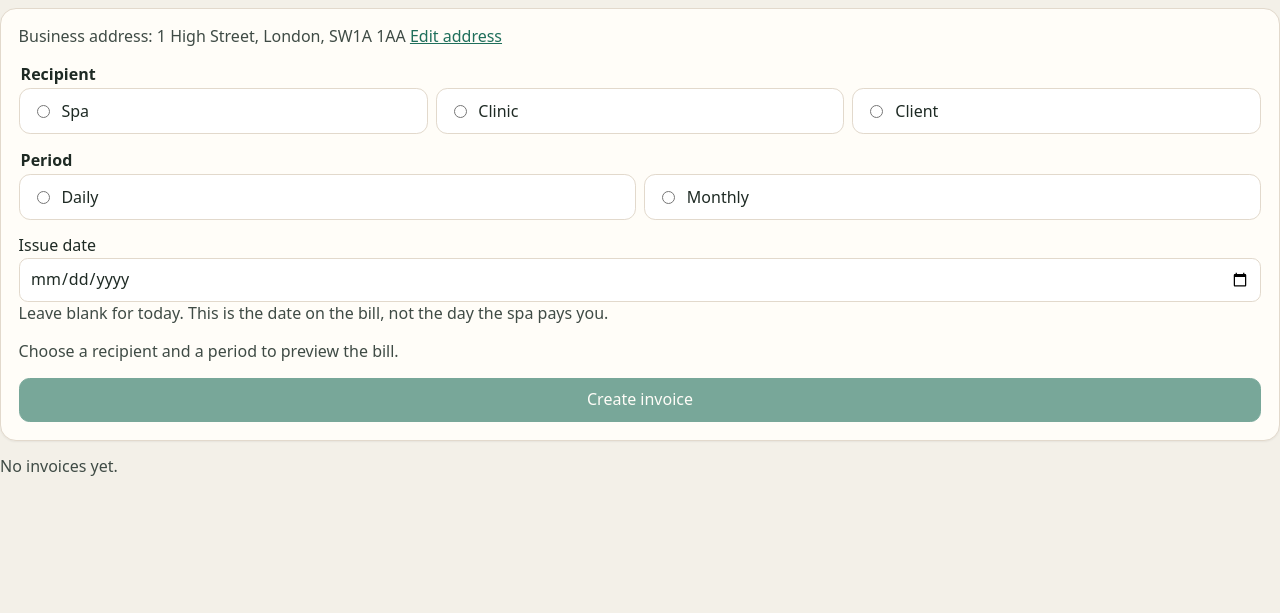
Test case: records › keeps Enter in a workplace address field from issuing the invoice
Click the radio button labelled "Spa" at coordinates (43, 111), box left=37, top=105, right=50, bottom=118
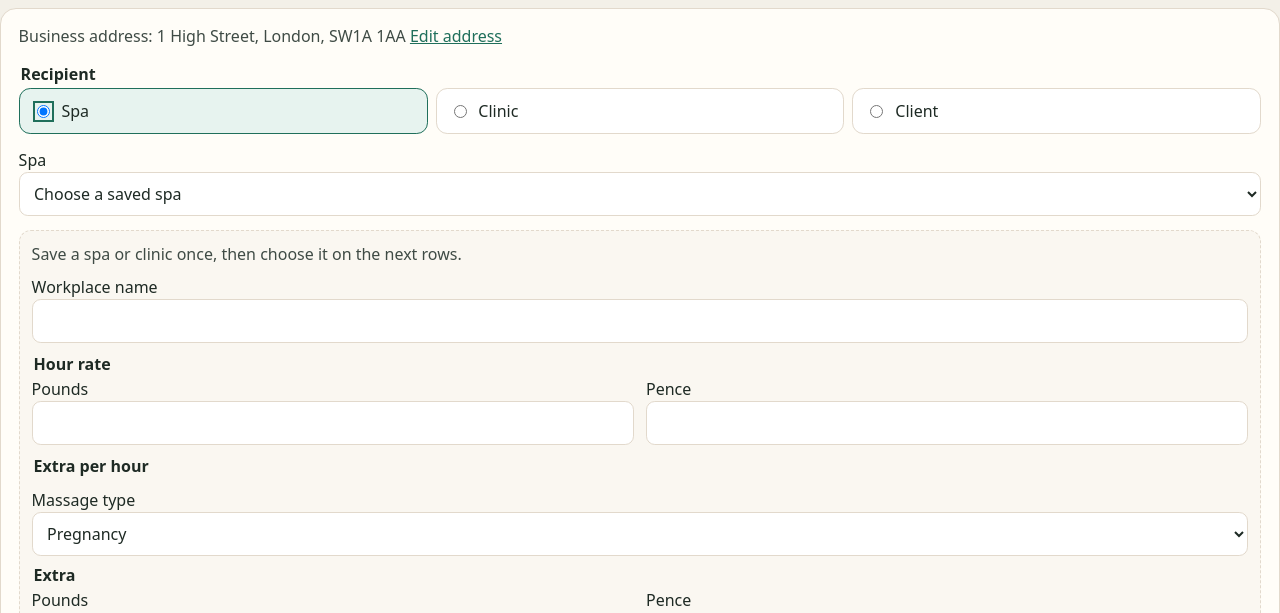
Select "North Spa" in the dropdown labelled "Spa" at coordinates (640, 194), box left=19, top=172, right=1261, bottom=216
(page scrolled)
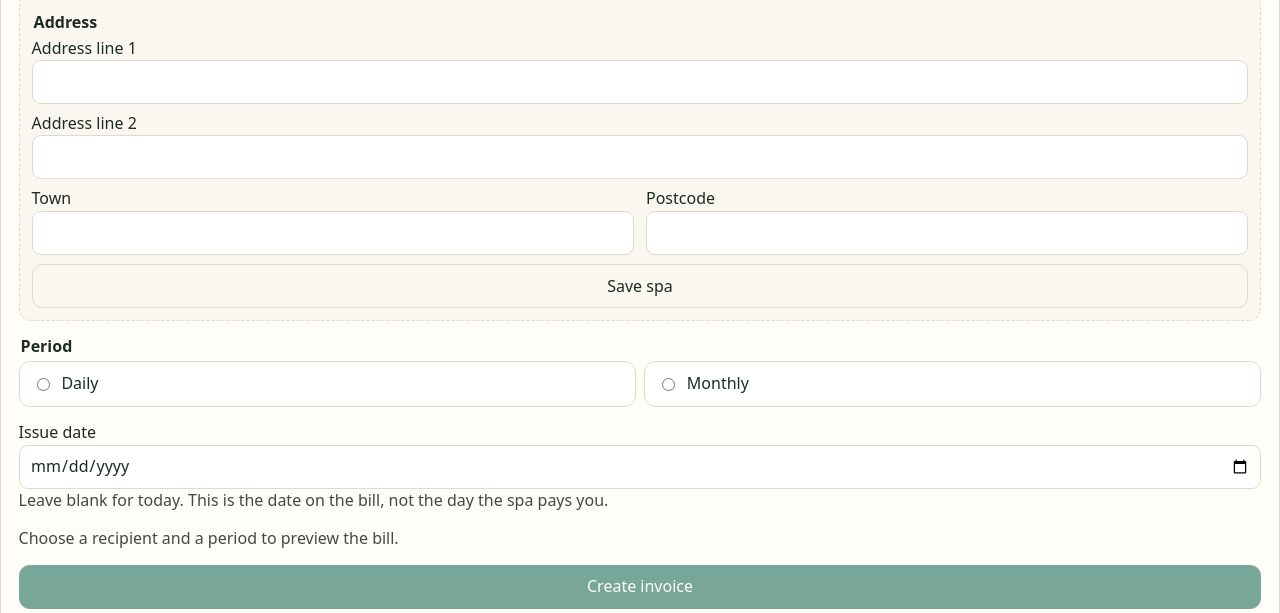
Click the radio button labelled "Daily" at coordinates (43, 384), box left=37, top=378, right=50, bottom=390
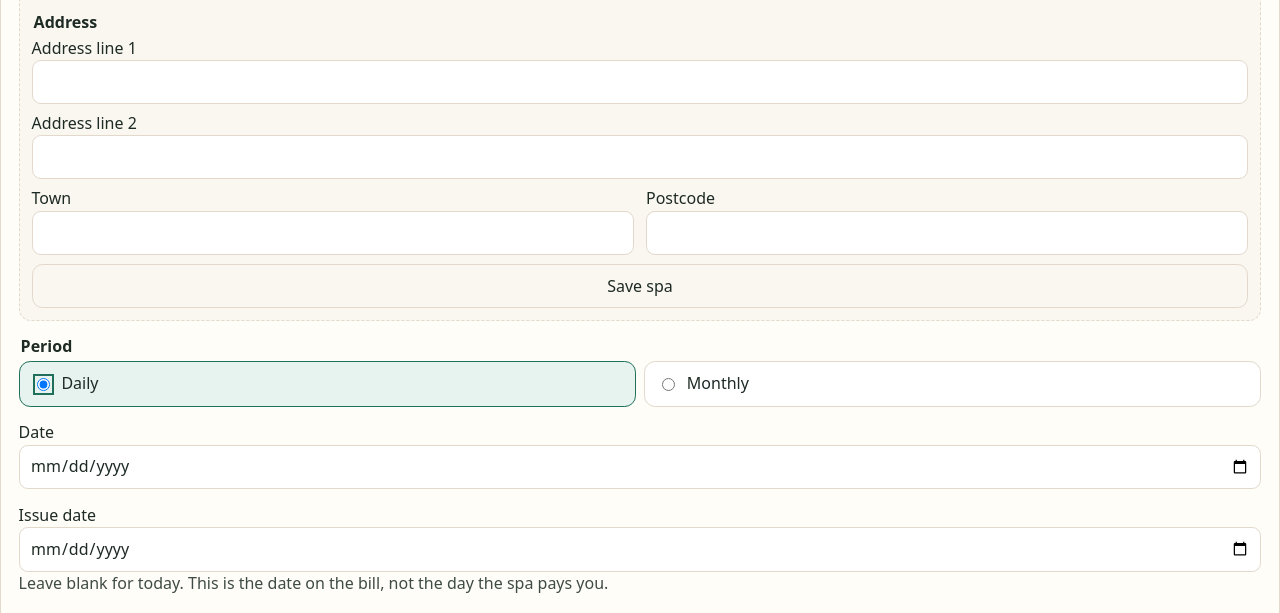
Type "2026-05-01" into the date field labelled "Date" at coordinates (640, 467), box left=19, top=445, right=1261, bottom=489
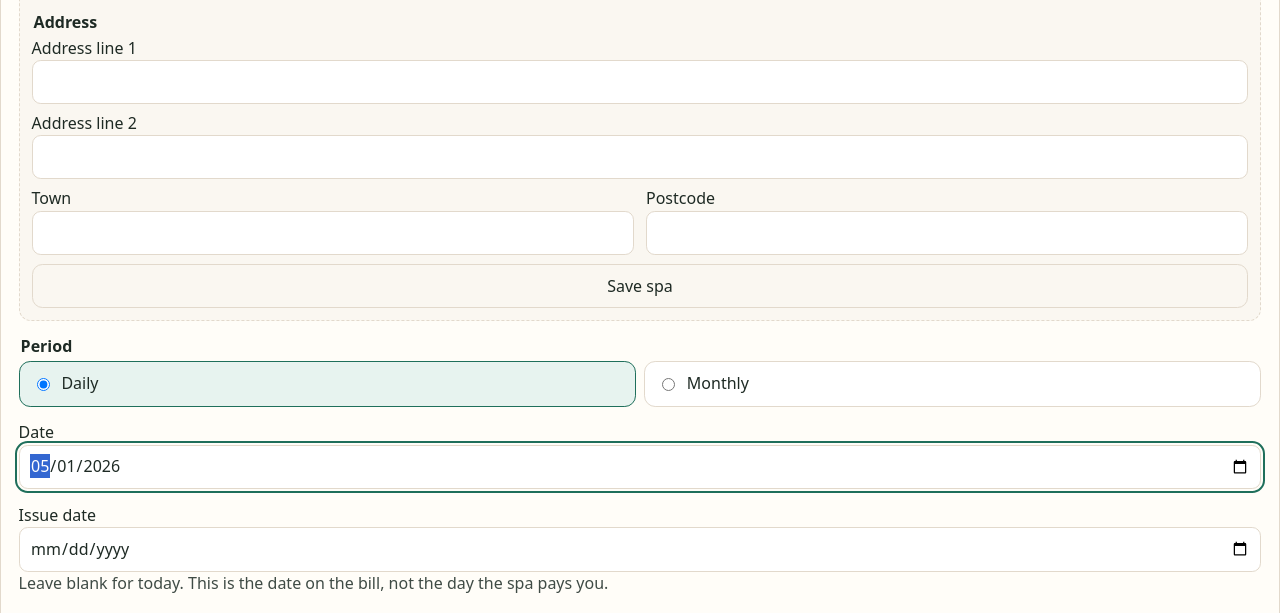
Type "Leeds" into the field labelled "Town" at coordinates (333, 232), box left=32, top=210, right=634, bottom=254
Then press Enter
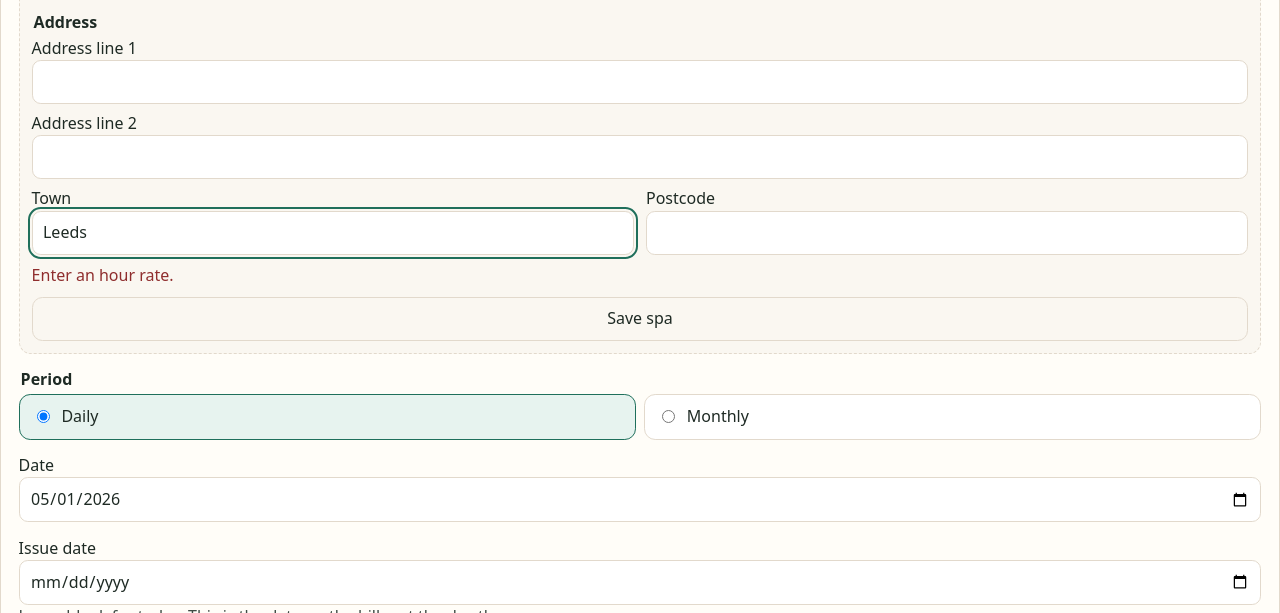
Now the text "Enter an hour rate." is shown, box left=32, top=264, right=174, bottom=286
